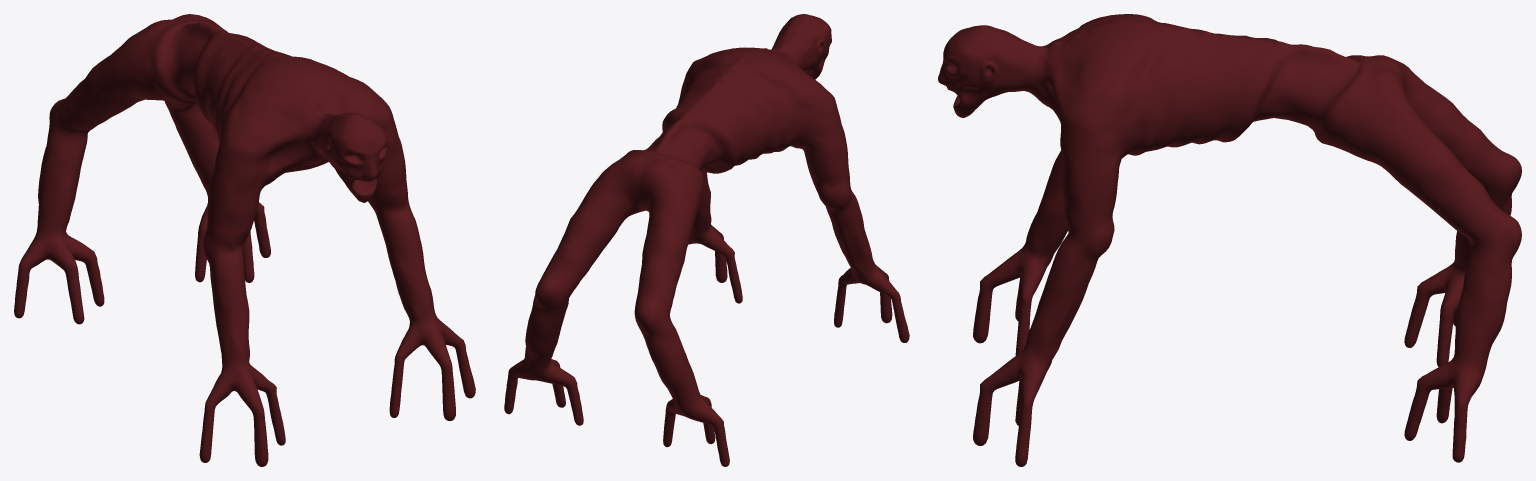
File: monster1_modify.fbx
3 views of the same model, side by side, from view 1: azimuth 30°, elevation 25°; view 2: azimuth 150°, elevation 25°; view 3: azimuth 270°, elevation 25° (orthographic). The views are drawn at different scales.
Parts seen in each view (by area): view 1: Monster; view 2: Monster; view 3: Monster.
Part boxes in pixels (left/top/right/bottom): Monster: left=14, top=14, right=475, bottom=466; Monster: left=504, top=14, right=909, bottom=466; Monster: left=938, top=14, right=1521, bottom=466.
Size of the model in its own units: 398 by 462 by 654.
